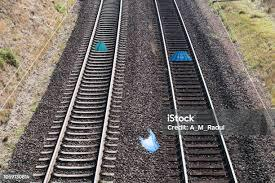Color_steel: (167, 47, 193, 66), (94, 39, 109, 54)
Plastic: (136, 130, 161, 155)
